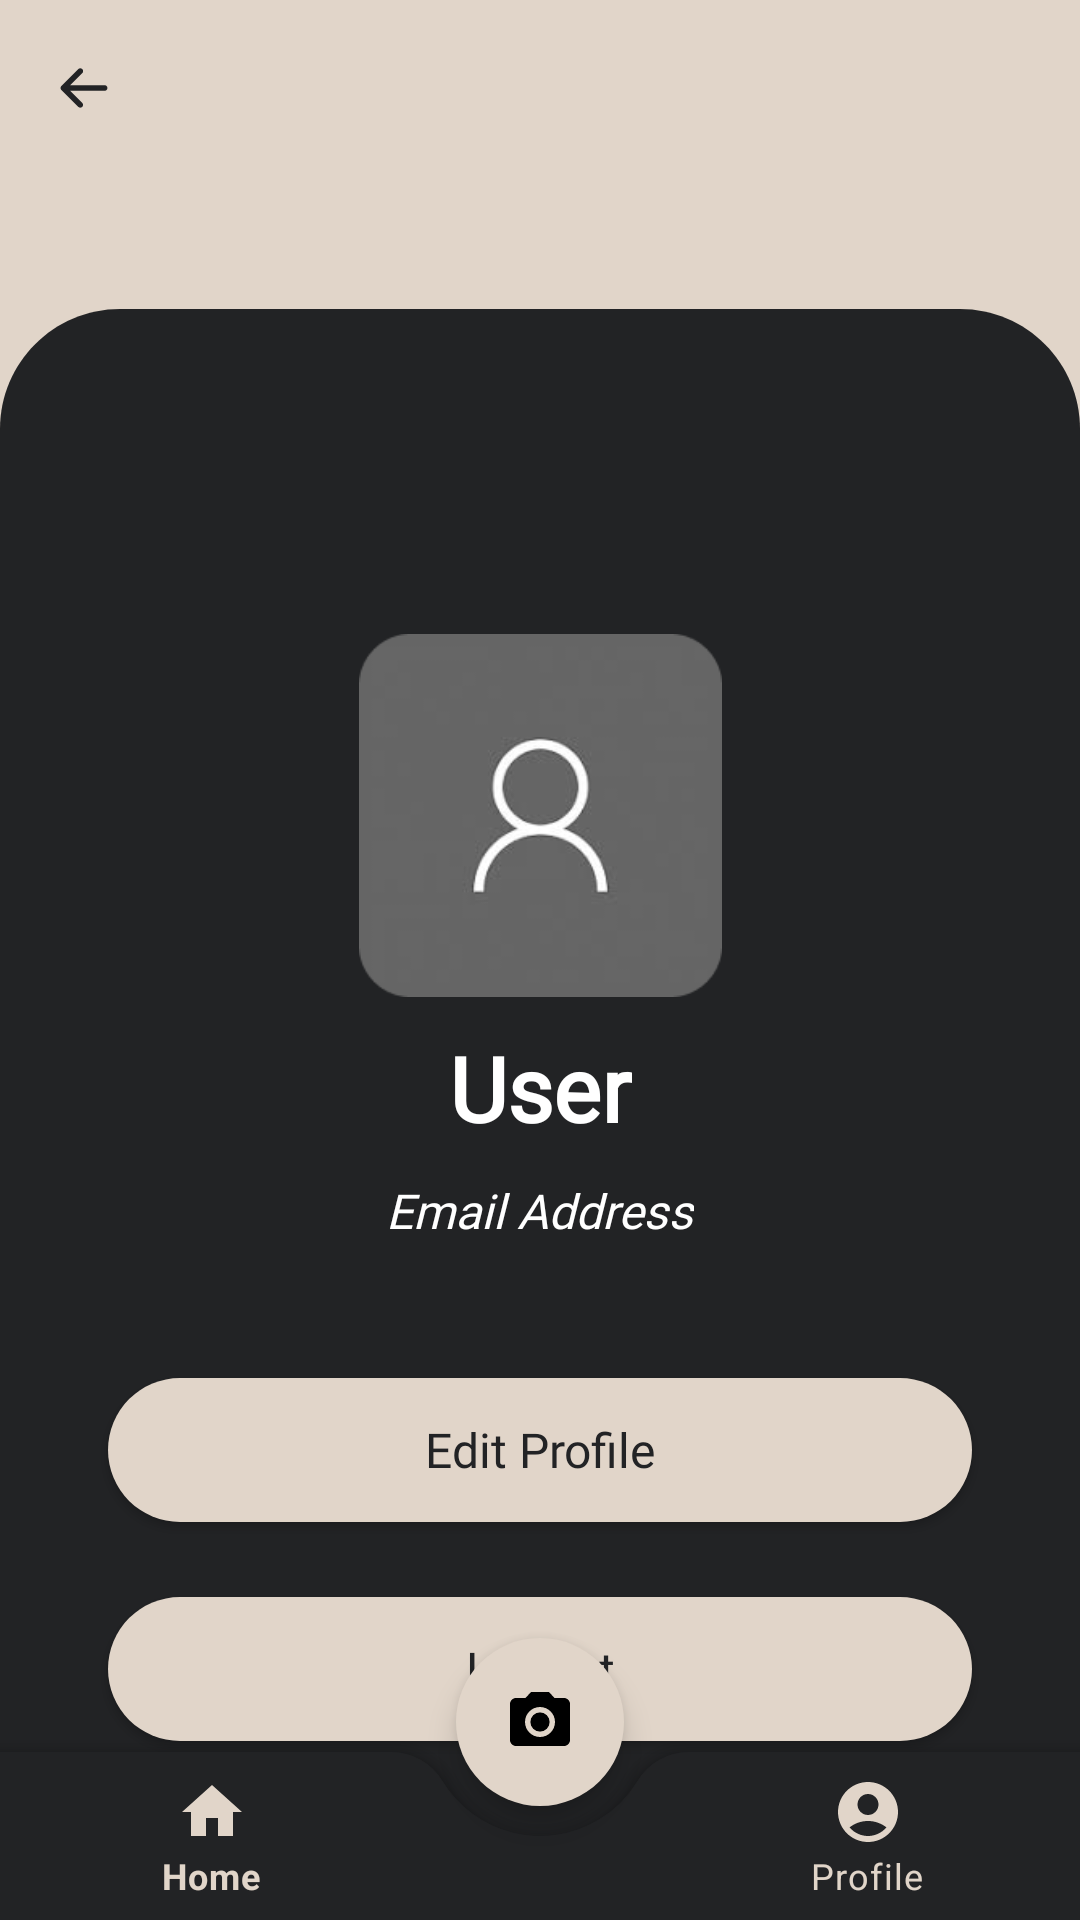

Icon click points for this 1080px×1920px phone screenshot, format [x,y]:
Back: [84,88]
camera: [540,1752]
